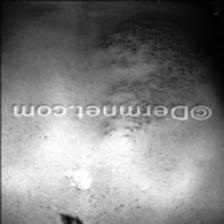Toxin: (91, 14, 208, 92), (93, 118, 165, 138)
